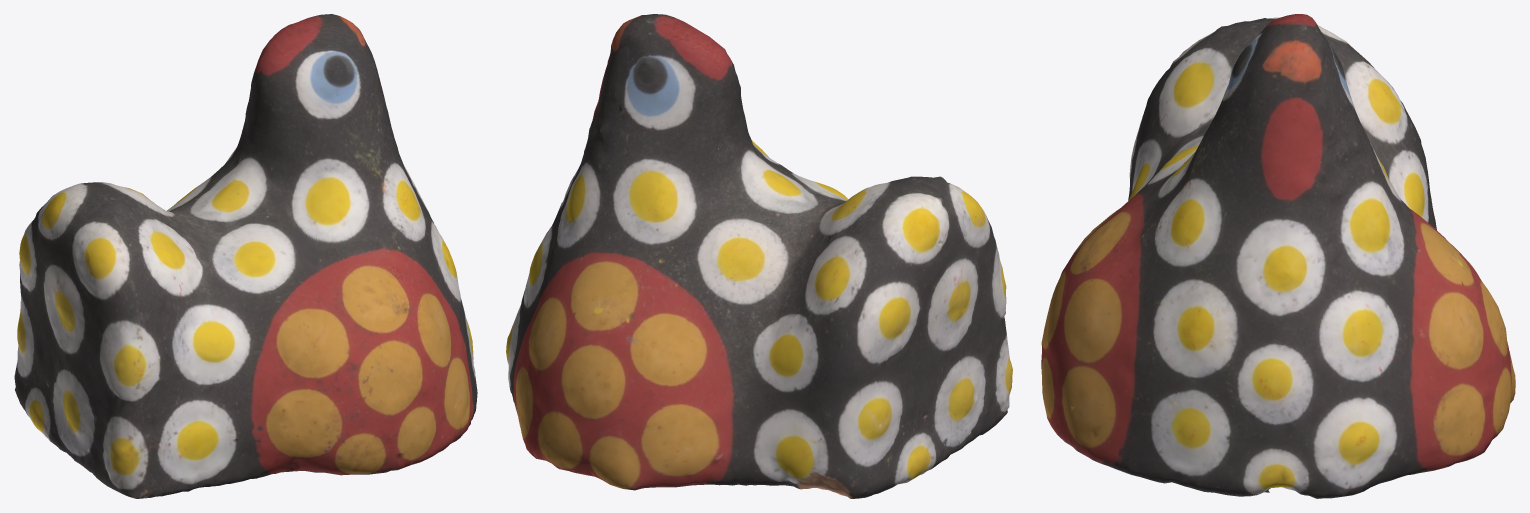
Rendered from gallina-de-barro.glb.
3 renders of one model, left to right at view 1: azimuth 30°, elevation 25°; view 2: azimuth 150°, elevation 25°; view 3: azimuth 270°, elevation 25°, orthographic. The views are drawn at different scales.
Visible parts, largest first — view 1: Object_2; view 2: Object_2; view 3: Object_2.
Boxes of the visible parts, box(x1,y1,x2,y2) form: Object_2: box(14, 14, 477, 498); Object_2: box(506, 14, 1012, 498); Object_2: box(1041, 14, 1515, 498).
Bounding box in the file's own units: 0.035 × 0.0307 × 0.032.
Materials: 1 (1 with a texture image).
